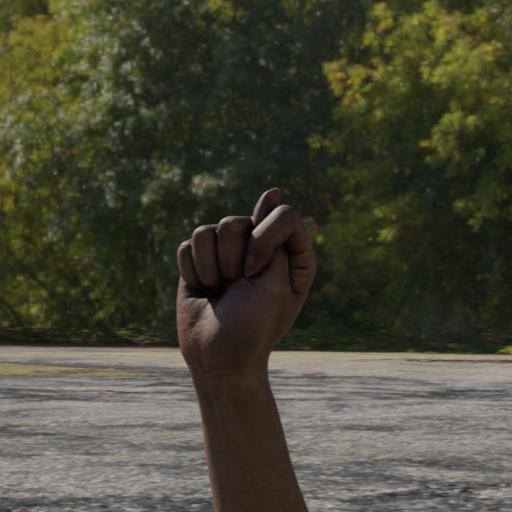T: (170, 182, 323, 379)
